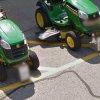Tractor: (30, 0, 100, 60)
